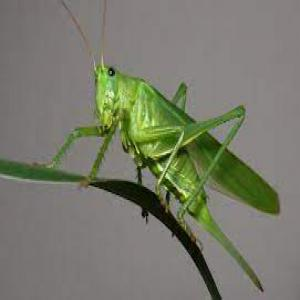locust: (82, 14, 281, 269)
